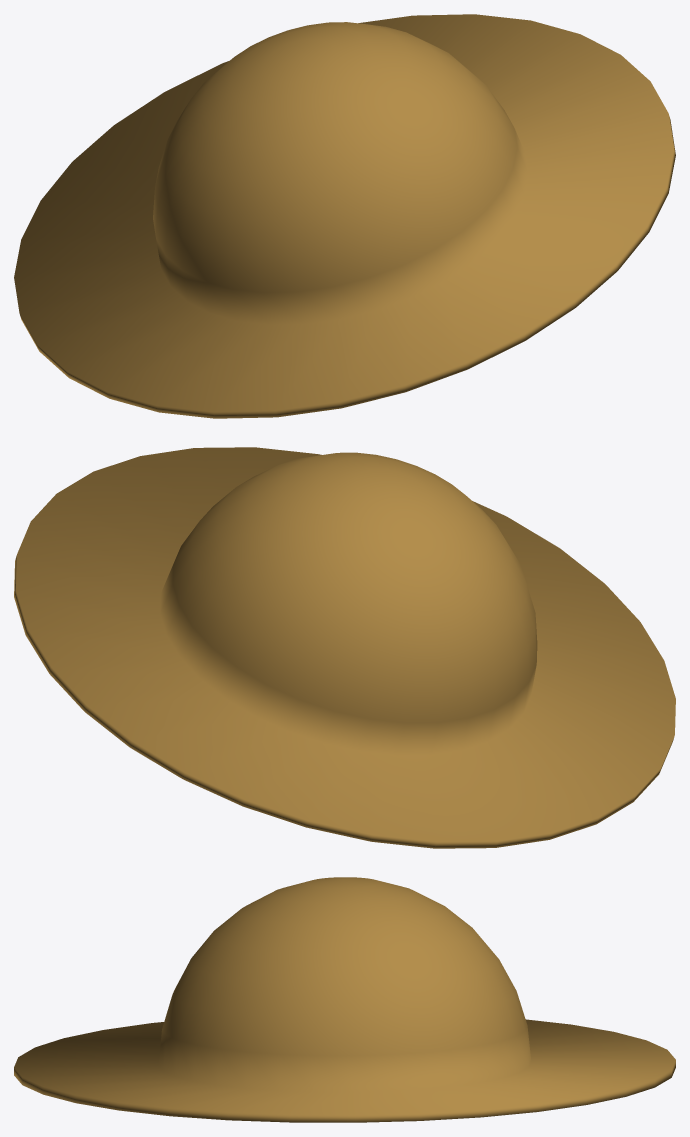
File: hat.glb
3 renders of one model, top to bottom at view 1: azimuth 30°, elevation 25°; view 2: azimuth 150°, elevation 25°; view 3: azimuth 270°, elevation 25°, orthographic. The views are drawn at different scales.
Visible parts, largest first — view 1: Hat; view 2: Hat; view 3: Hat.
Part boxes in pixels (x1,y1,x2,y2): Hat: [14, 14, 675, 418]; Hat: [14, 447, 675, 848]; Hat: [14, 877, 675, 1122].
Size of the model in its own units: 1.65 by 0.7372 by 1.71.
